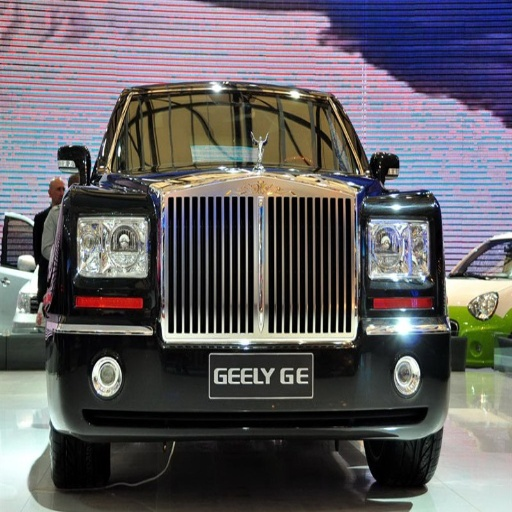front_bumper: (48, 270, 424, 429), (73, 364, 182, 437)
front_right_door: (318, 103, 379, 217)
front_right_light: (72, 212, 148, 278)
trunk: (358, 293, 442, 398), (129, 355, 206, 412)
